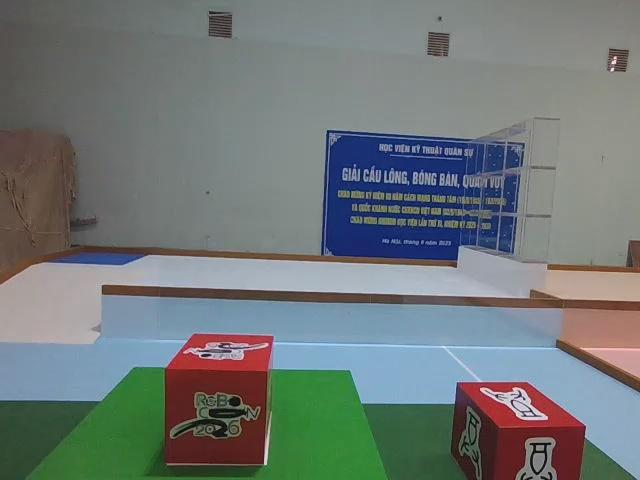R1: (163, 331, 273, 468)
R2 Real: (451, 379, 584, 480)
